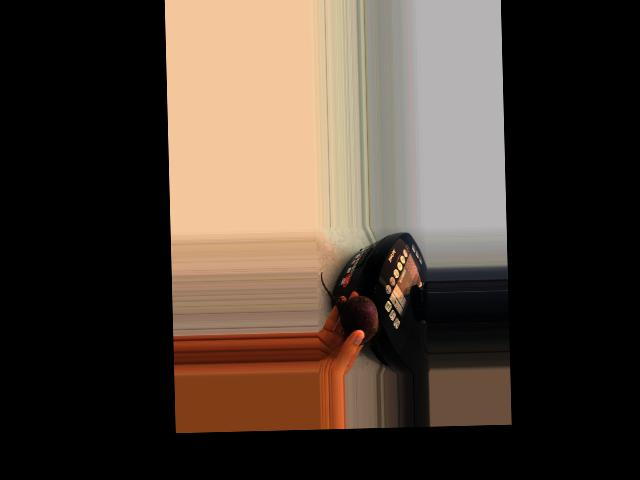beet: (320, 270, 381, 345)
